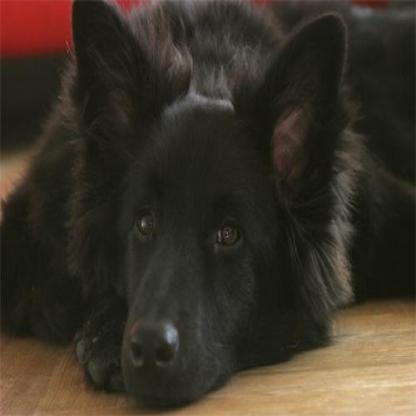groenendael: (0, 0, 414, 406)
